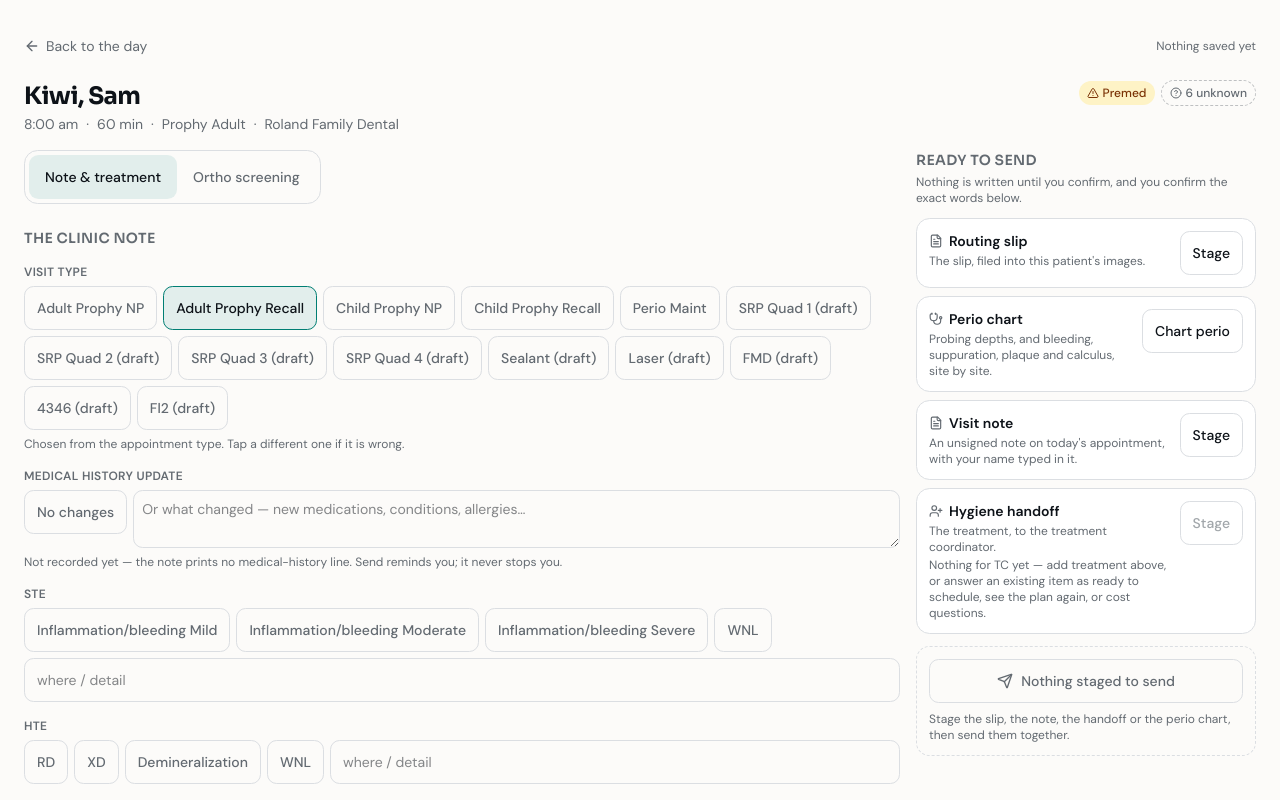
it: what the screen may not claim › leaves a staged perio chart out of Send while its own record cannot be read, and says so
This screenshot has width=1280, height=800.
// Force a visit so the tray renders the staged row.
What coordinates should you click on to do the following:
click the button with test id "hyg-stage-router"
I would click on:
 (1211, 253)
Its box is [1180,231,1243,275].
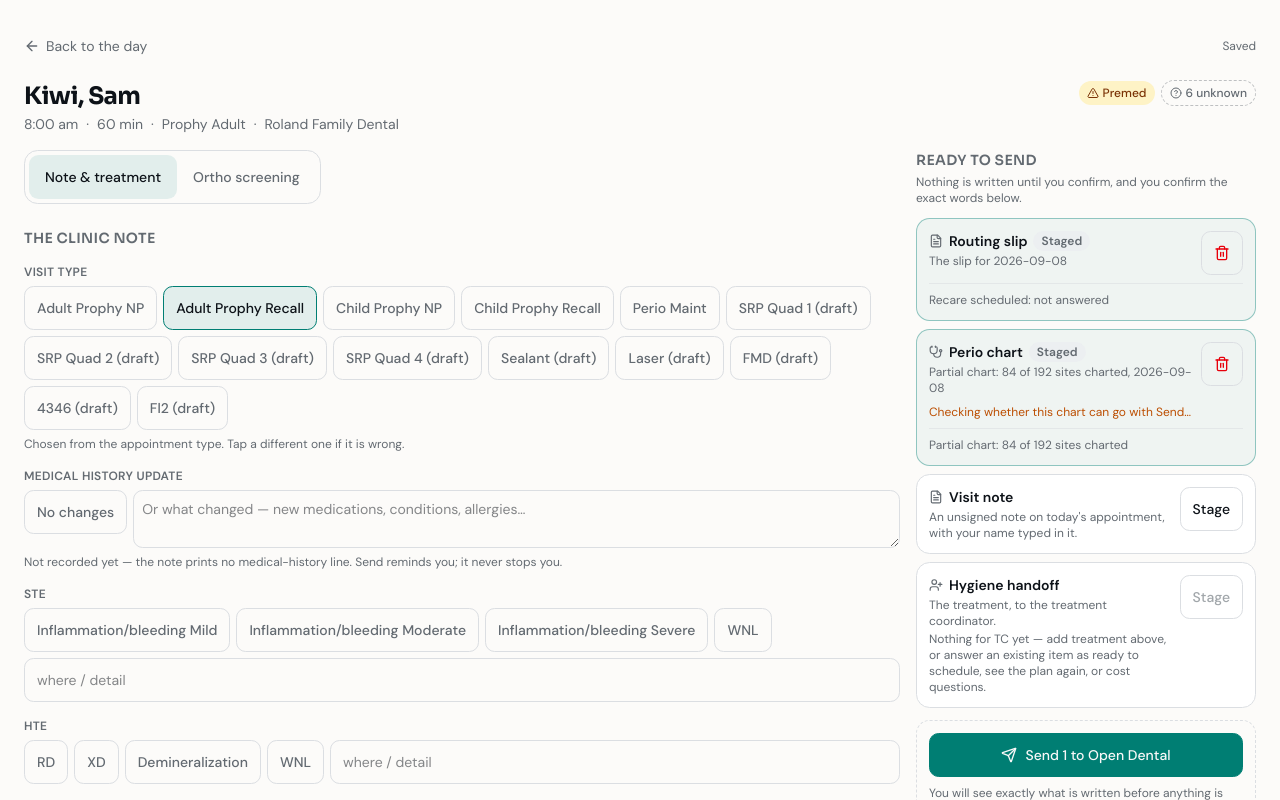
Expected: the list with test id "hyg-staged-preview-router" is shown, [929,292,1109,308]
Expected: the element with test id "hyg-staged-perio" shows "Partial chart: 84 of 192", [929,364,1192,396]
Expected: the text with test id "hyg-perio-blocked" shows "Checking", [929,404,1191,420]
